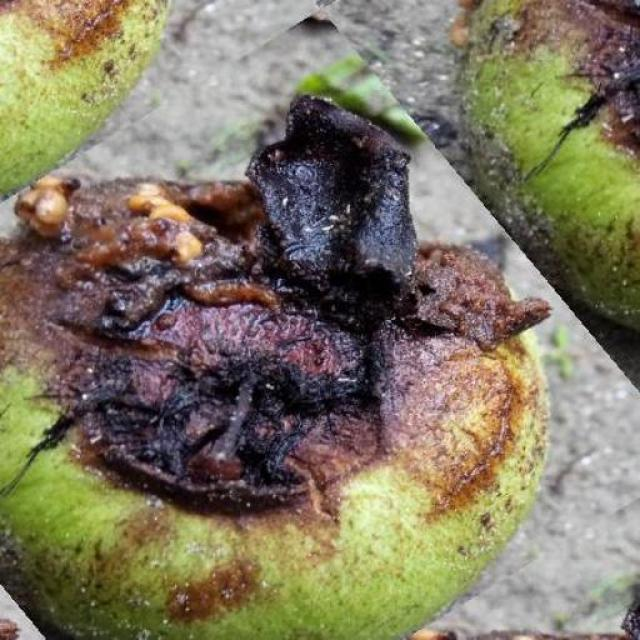Phytopthora: (0, 98, 549, 640)
